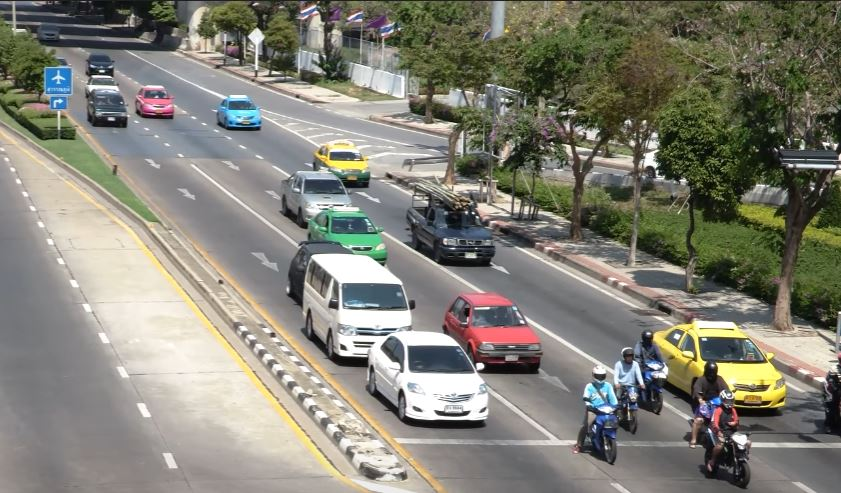Bus: (294, 251, 412, 356)
Car: (652, 317, 787, 413), (366, 329, 491, 425), (404, 176, 496, 268), (442, 292, 543, 370), (310, 209, 389, 264), (280, 170, 352, 224), (313, 139, 373, 189), (84, 88, 130, 128), (216, 92, 263, 130), (134, 82, 176, 121), (83, 51, 115, 79), (84, 75, 120, 97)
Motorcycle: (572, 365, 622, 468), (705, 391, 755, 488), (689, 359, 727, 447), (610, 342, 641, 430), (636, 331, 669, 412)
